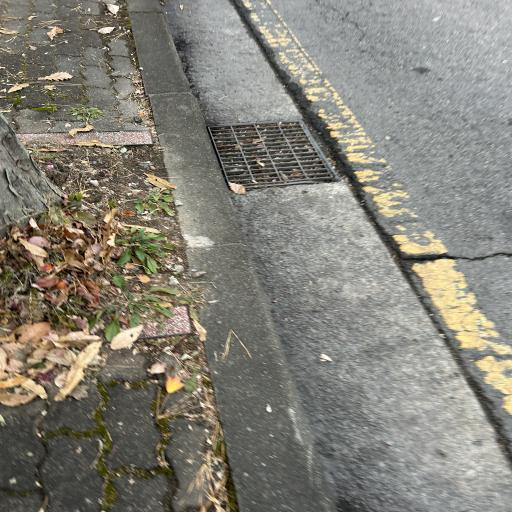debris: (243, 136, 258, 143), (293, 171, 299, 177), (221, 144, 228, 148), (257, 164, 260, 167), (235, 181, 239, 183)
drain: (209, 121, 335, 187)
